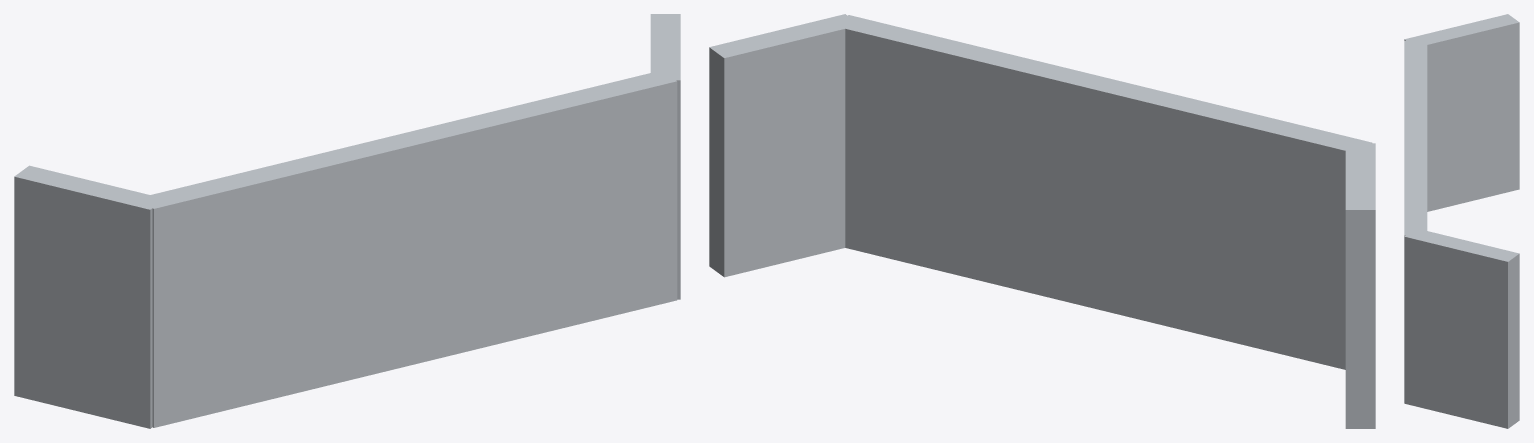
Rendered from npc_gear_visor.fbx.
3 renders of one model, left to right at view 1: azimuth 30°, elevation 25°; view 2: azimuth 150°, elevation 25°; view 3: azimuth 270°, elevation 25°, orthographic. The views are drawn at different scales.
Parts seen in each view (by area): view 1: npc_gear_visor; view 2: npc_gear_visor; view 3: npc_gear_visor.
Boxes of the visible parts, x1,y1,x2,y2 form: npc_gear_visor: (14,14,680,428); npc_gear_visor: (709,14,1375,428); npc_gear_visor: (1404,14,1519,428).
Bounding box in the file's own units: 127 × 40 × 25.02.
